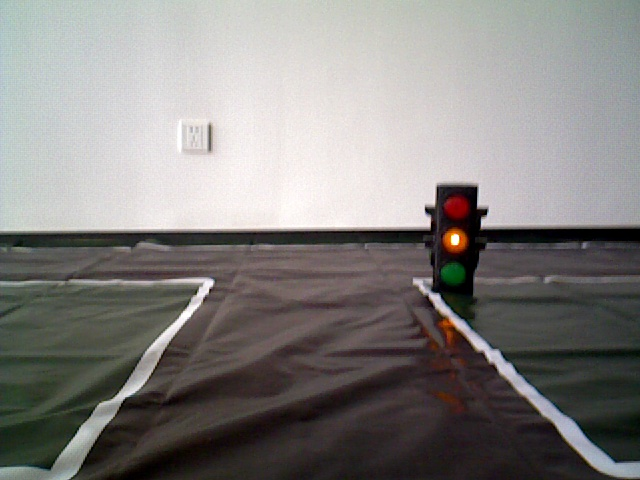yellow: (432, 183, 477, 285)
